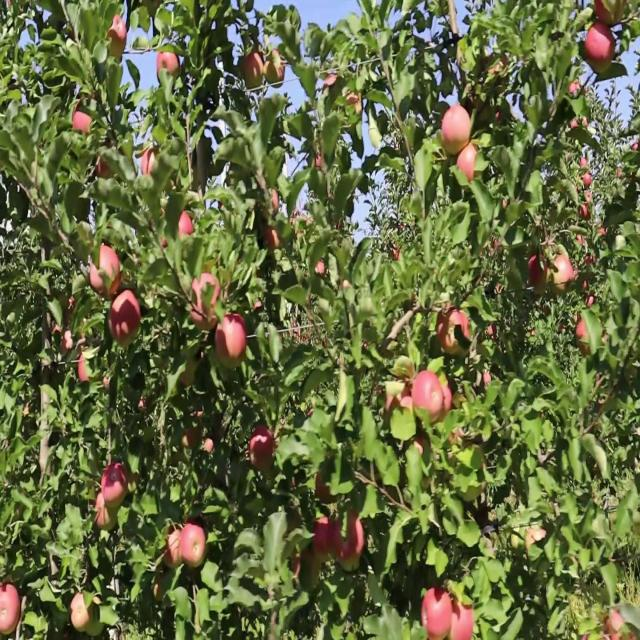apple: (188, 277, 223, 332), (216, 312, 248, 370), (436, 305, 472, 356), (336, 511, 366, 572), (584, 21, 616, 76), (112, 291, 143, 347), (92, 248, 123, 299), (420, 590, 452, 639), (412, 369, 441, 420), (248, 426, 279, 473), (444, 106, 472, 156), (100, 462, 129, 505), (180, 526, 208, 569), (0, 583, 22, 635), (72, 590, 95, 633), (456, 142, 479, 185), (312, 519, 336, 560), (388, 383, 415, 418), (108, 14, 128, 60), (264, 49, 287, 87), (604, 611, 635, 639), (244, 49, 264, 92), (452, 604, 476, 639), (164, 526, 183, 569), (552, 255, 574, 292), (292, 547, 318, 578), (72, 99, 93, 137), (48, 327, 74, 356), (600, 0, 626, 28), (260, 184, 280, 220), (528, 255, 551, 286), (48, 327, 72, 356), (596, 0, 620, 28), (96, 149, 117, 180), (576, 319, 592, 357), (440, 376, 454, 418), (140, 149, 159, 178), (488, 56, 509, 82), (96, 490, 109, 530), (316, 476, 333, 505), (180, 362, 198, 389), (264, 227, 281, 254), (528, 526, 547, 549), (80, 348, 92, 384), (60, 327, 74, 356), (180, 213, 196, 238), (152, 575, 165, 604), (168, 49, 180, 78), (416, 433, 430, 457), (184, 426, 199, 448), (348, 92, 363, 114), (156, 56, 165, 80), (572, 120, 588, 133), (484, 369, 493, 389), (584, 170, 592, 190), (596, 227, 608, 240), (316, 263, 327, 277), (316, 156, 325, 172), (488, 327, 497, 341)
